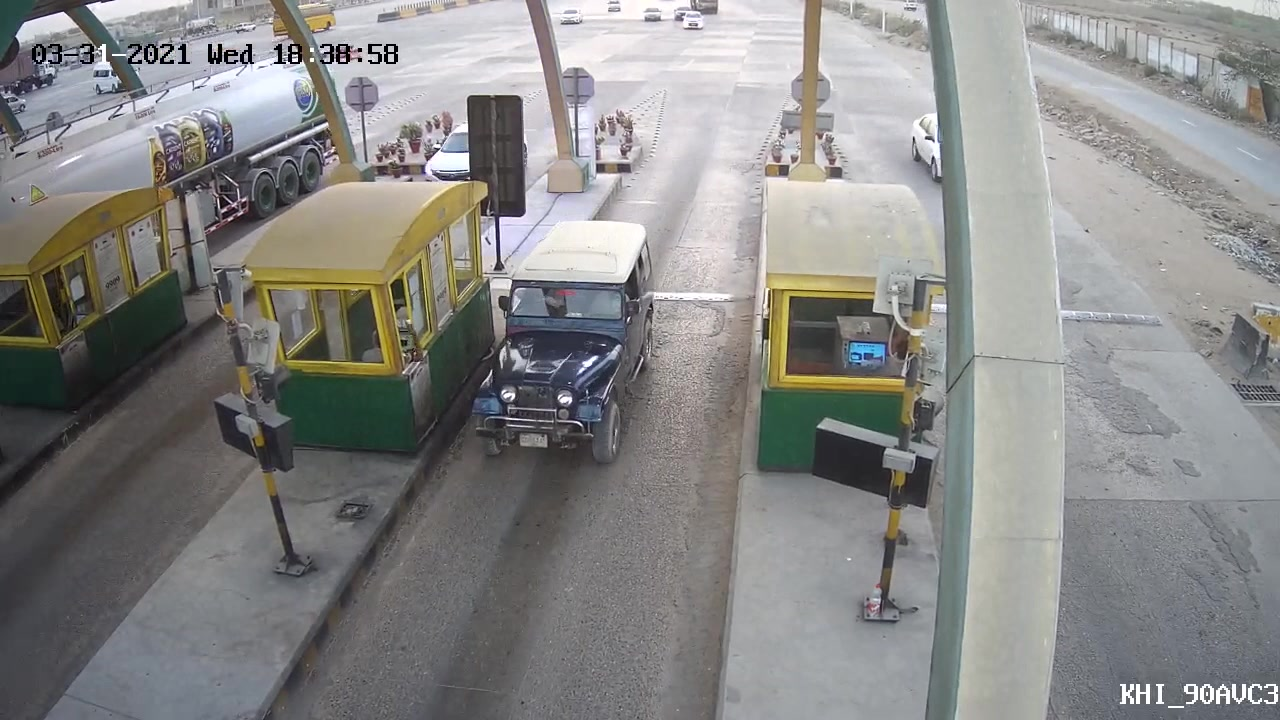F1: (467, 207, 662, 473)
